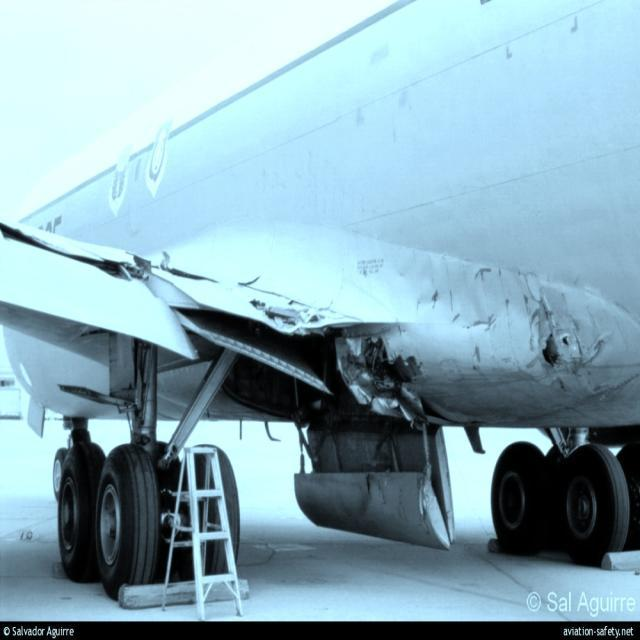dent: (451, 267, 531, 367), (421, 257, 442, 292)
